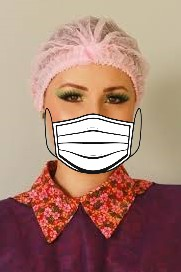with_mask_and_cap: (37, 17, 145, 174)
